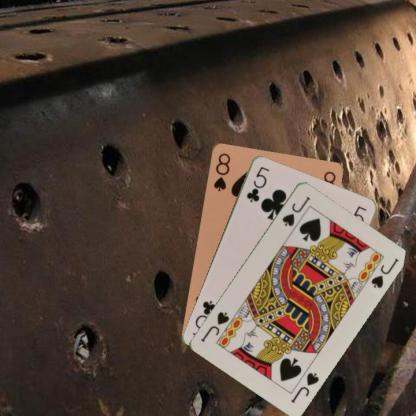5c: (244, 164, 271, 204)
8s: (210, 150, 232, 192)
Js: (279, 194, 311, 228), (288, 370, 320, 404)
